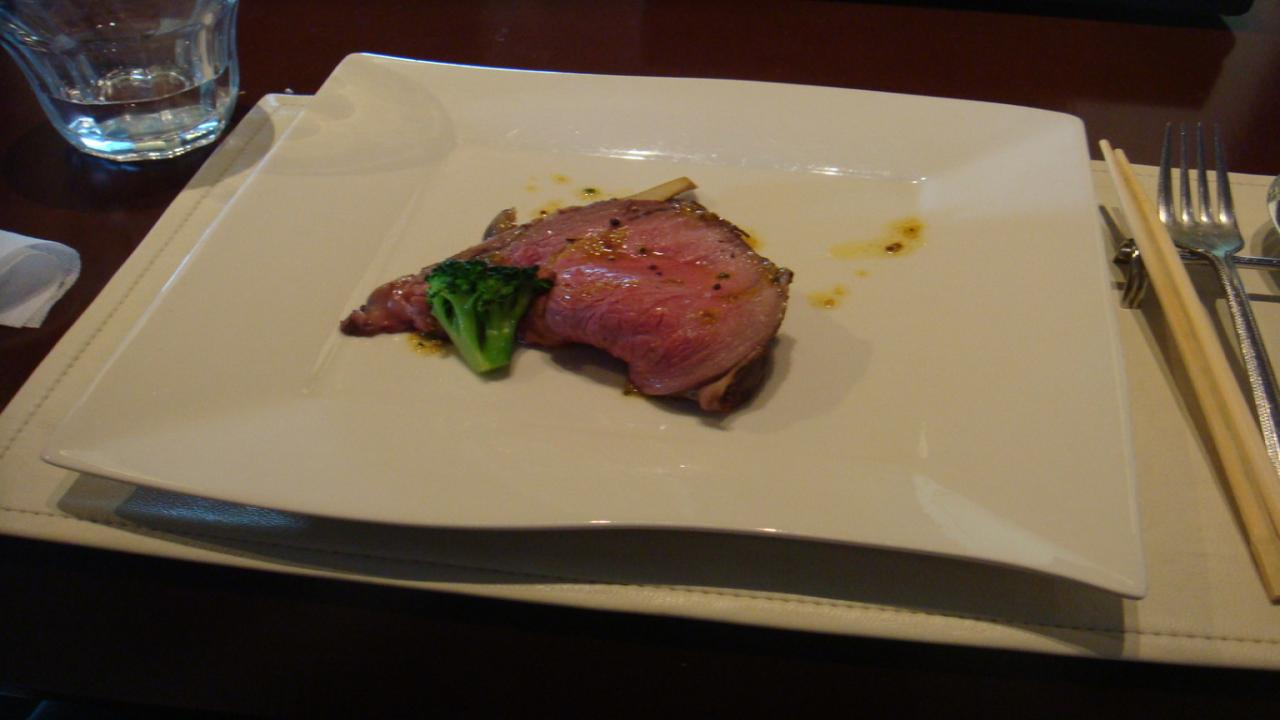chopstick: (1098, 134, 1280, 597)
fork: (1150, 119, 1280, 471)
